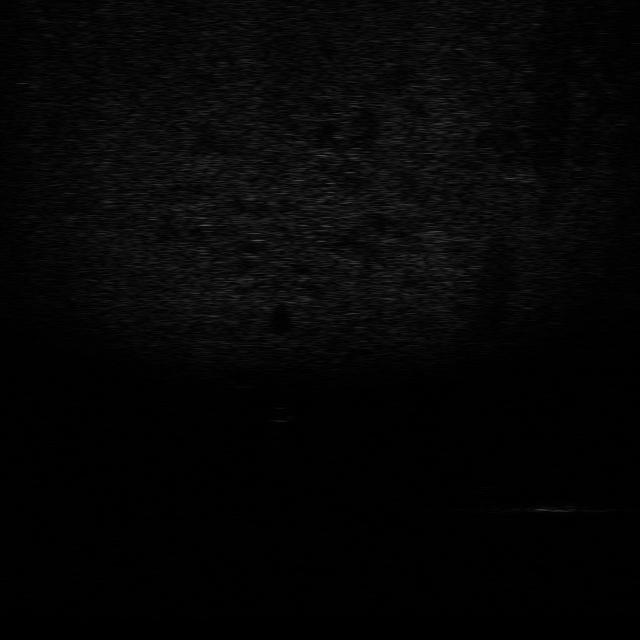ball: (260, 404, 298, 423)
metal bucket: (520, 500, 599, 516)
tyre: (468, 481, 518, 516)
